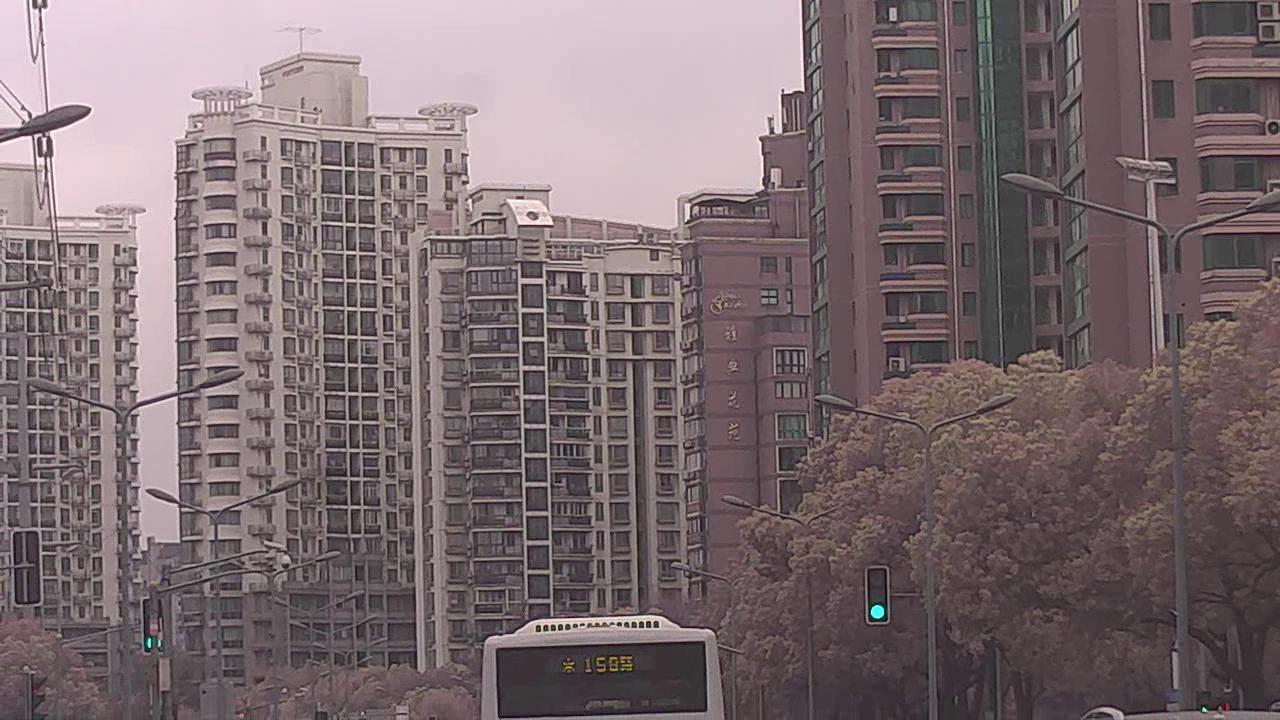traffic_light: (864, 565, 890, 625), (143, 597, 166, 657)
